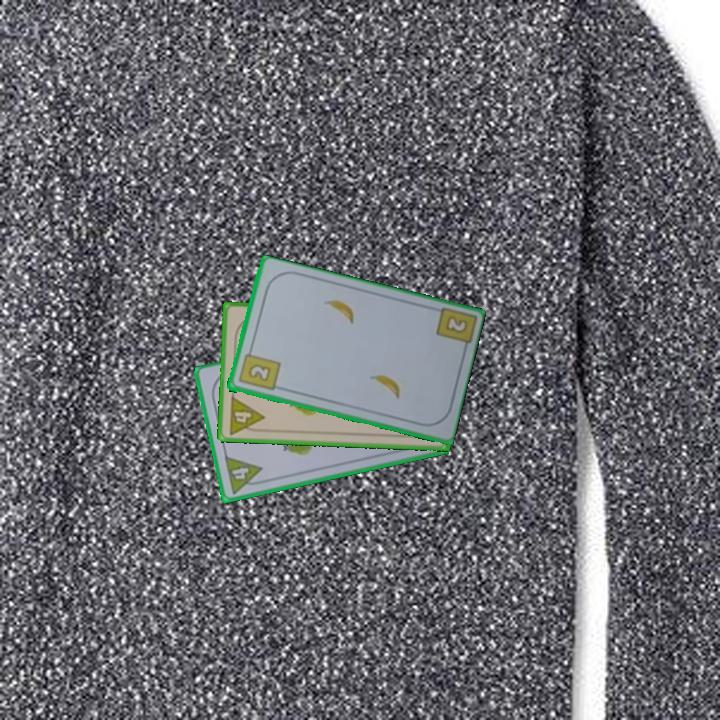2b: (235, 345, 282, 394), (442, 312, 470, 336)
4p: (221, 453, 268, 497), (225, 393, 267, 437)
